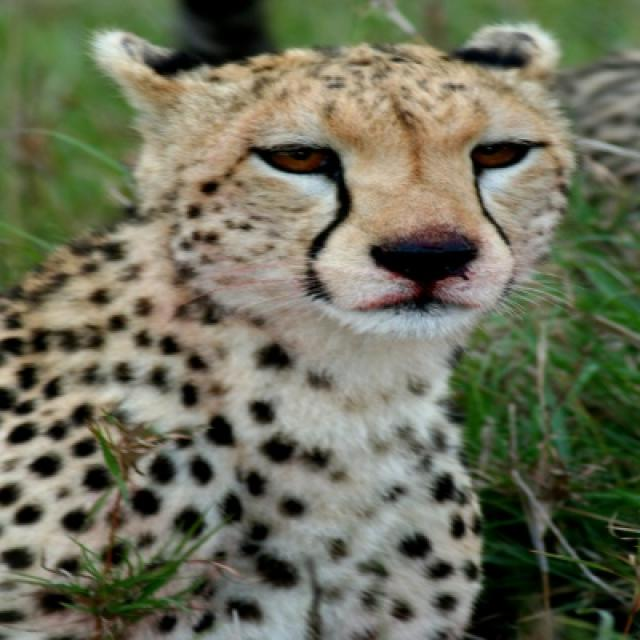Cheetah: (0, 22, 579, 638)
